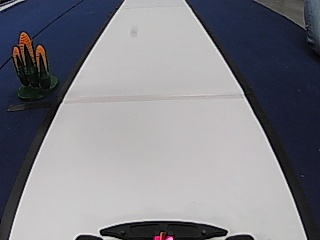corn: (8, 30, 60, 97)
